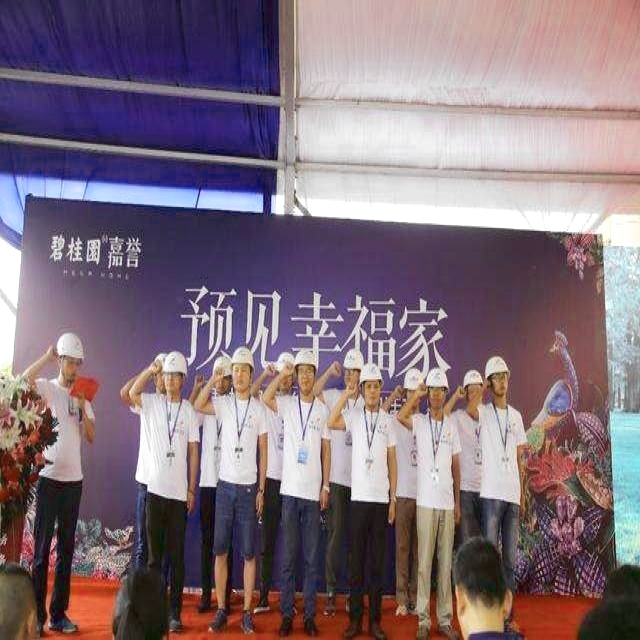Sin_Chaleco: (281, 394, 332, 499), (347, 406, 397, 503), (215, 394, 267, 486)
